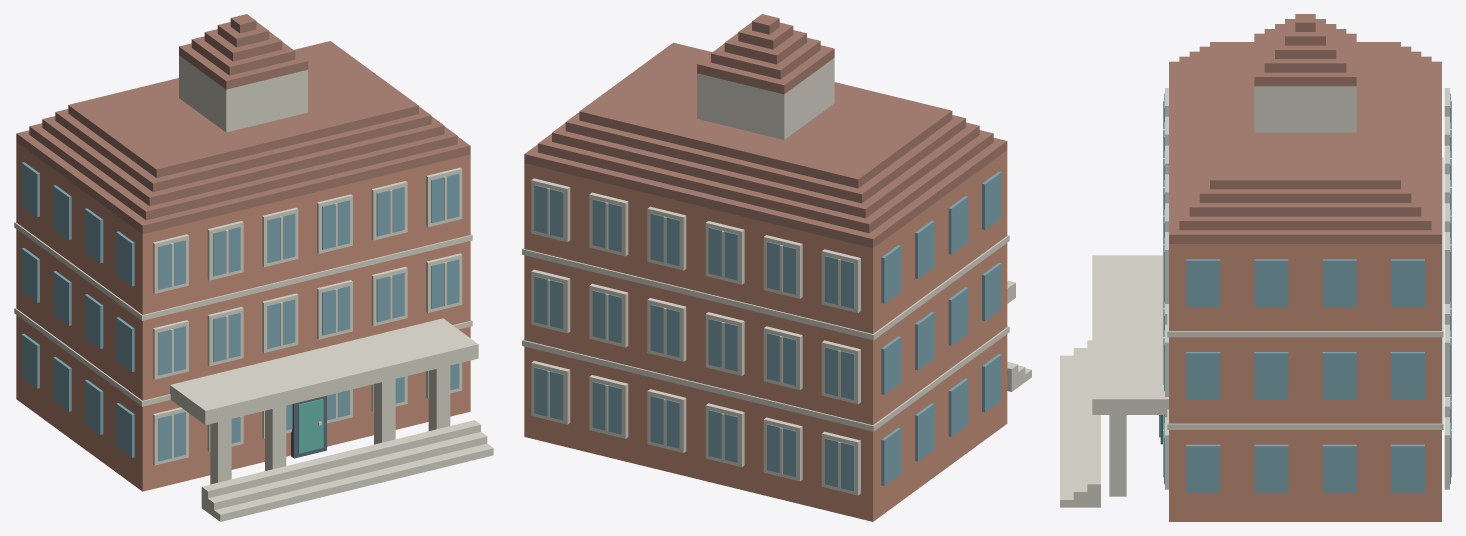
The picture shows the model from 3 angles, left to right: view 1: azimuth 30°, elevation 25°; view 2: azimuth 150°, elevation 25°; view 3: azimuth 270°, elevation 25°; orthographic projection. The views are drawn at different scales.
Visible parts, largest first — view 1: town-hall-brick, town-hall-concrete, town-hall-roof, town-hall-glass, town-hall-accent, town-hall-dark; view 2: town-hall-brick, town-hall-roof, town-hall-glass, town-hall-concrete; view 3: town-hall-brick, town-hall-roof, town-hall-concrete, town-hall-glass.
Boxes of the visible parts, x1,y1,x2,y2 form: town-hall-brick: (16, 142, 470, 491); town-hall-concrete: (14, 55, 493, 521); town-hall-roof: (16, 14, 470, 234); town-hall-glass: (21, 162, 459, 461); town-hall-accent: (298, 398, 323, 453); town-hall-dark: (291, 395, 326, 458); town-hall-brick: (524, 150, 1007, 521); town-hall-roof: (524, 14, 1007, 248); town-hall-glass: (534, 171, 1001, 491); town-hall-concrete: (522, 58, 1031, 495); town-hall-brick: (1169, 244, 1441, 521); town-hall-roof: (1169, 14, 1441, 243); town-hall-concrete: (1060, 86, 1451, 507); town-hall-glass: (1164, 93, 1450, 492).
Size of the model in its own units: 12.2 by 13.5 by 11.49.
